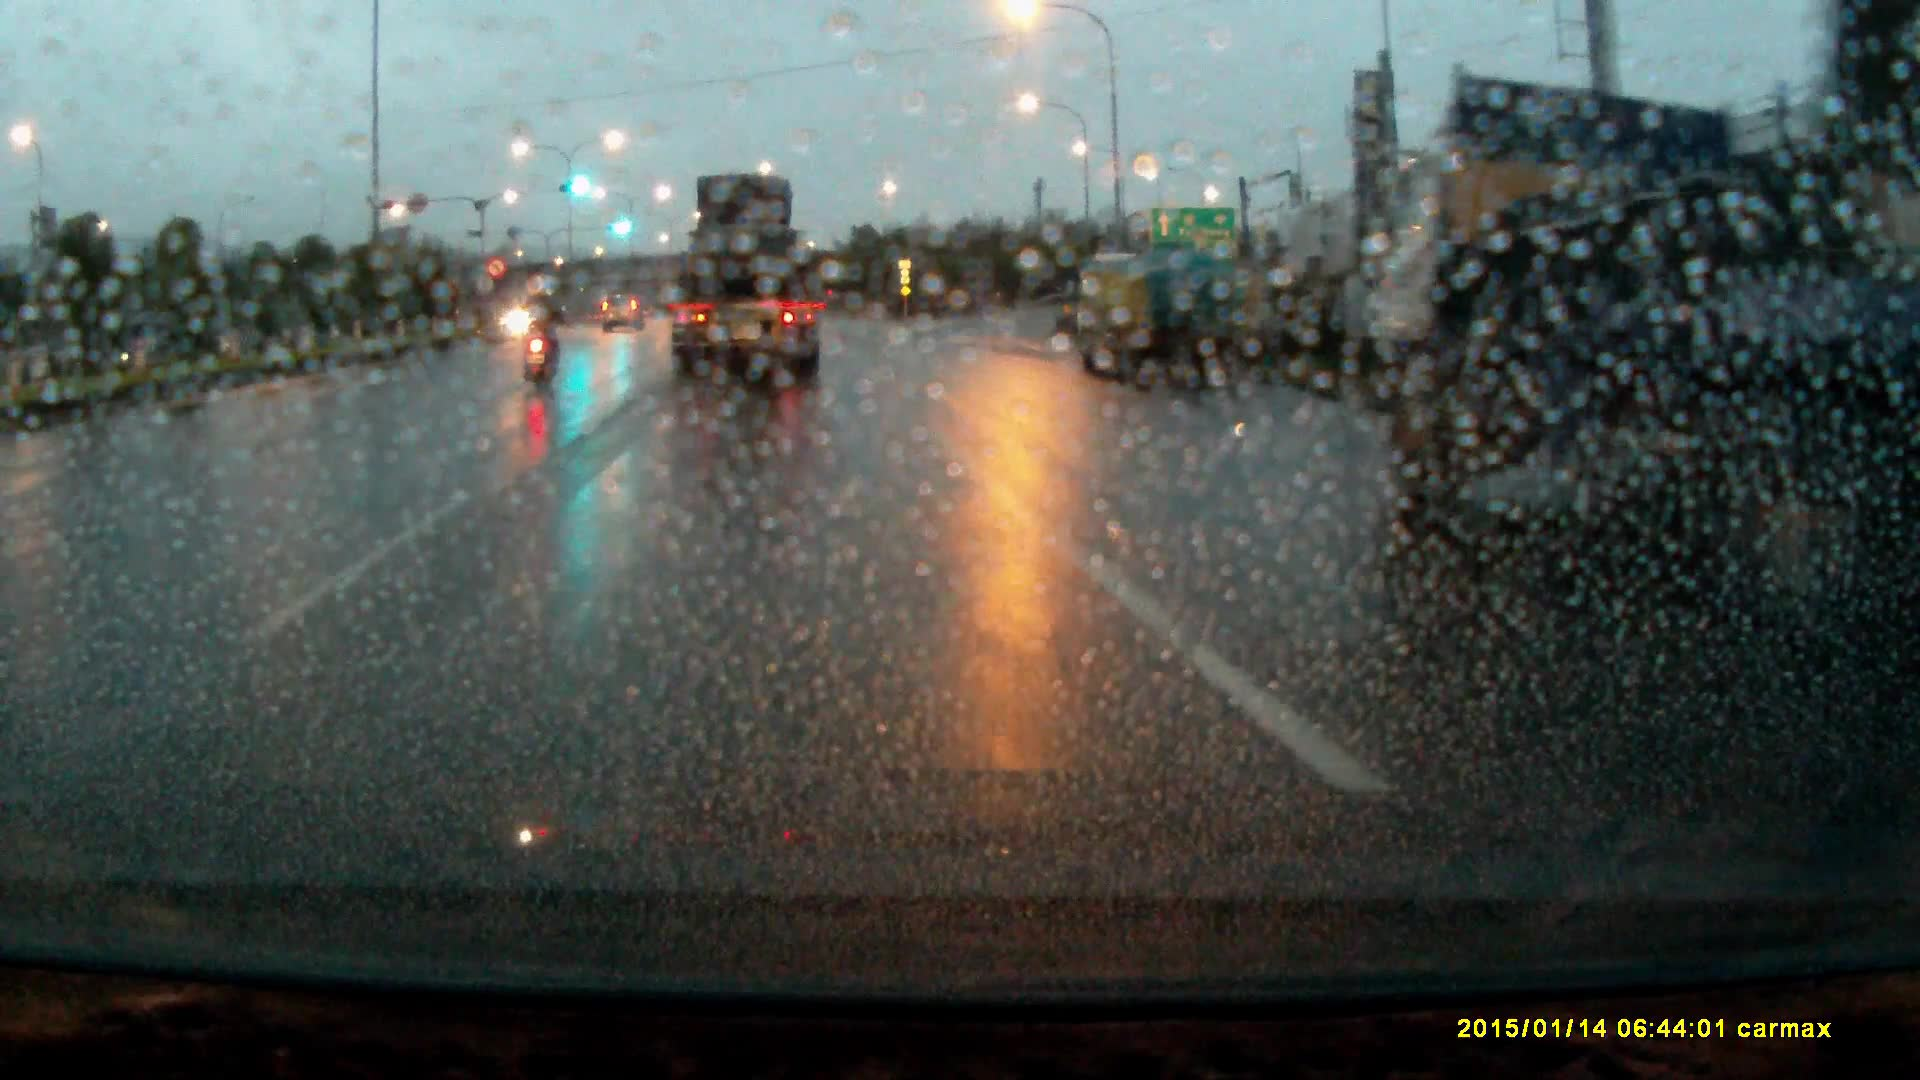rider: (518, 272, 572, 382)
vehicle: (1371, 78, 1920, 562), (665, 170, 825, 393), (1069, 255, 1248, 386), (602, 294, 647, 336)
